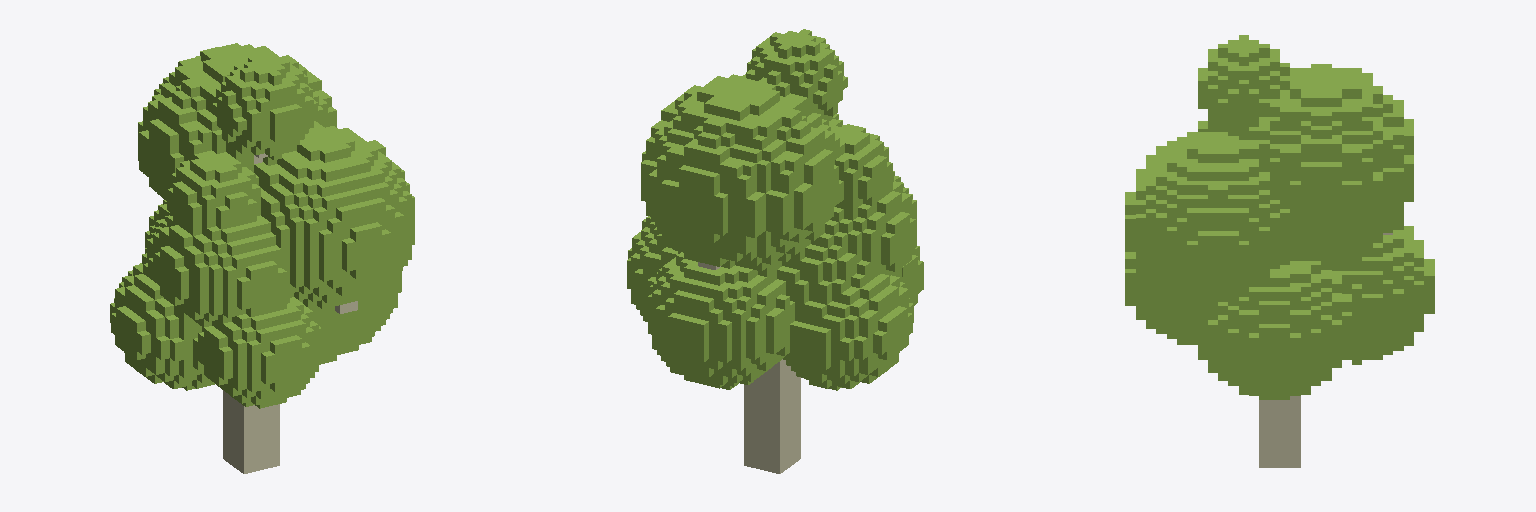
The picture shows the model from 3 angles: view 1: azimuth 30°, elevation 25°; view 2: azimuth 150°, elevation 25°; view 3: azimuth 270°, elevation 25°; orthographic projection.
Parts seen in each view (by area): view 1: object 1; view 2: object 1; view 3: object 1.
Part boxes in pixels (x1,y1,x2,y2): object 1: (110, 43, 414, 473); object 1: (627, 29, 923, 473); object 1: (1125, 35, 1434, 467).
Bounding box in the file's own units: 2.9 × 4.4 × 3.
Materials: 1 (1 with a texture image).